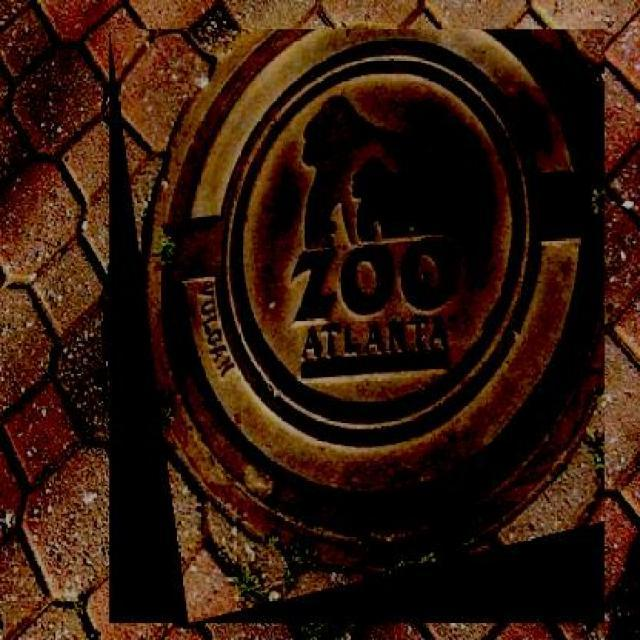Manhole: (110, 30, 604, 624)
